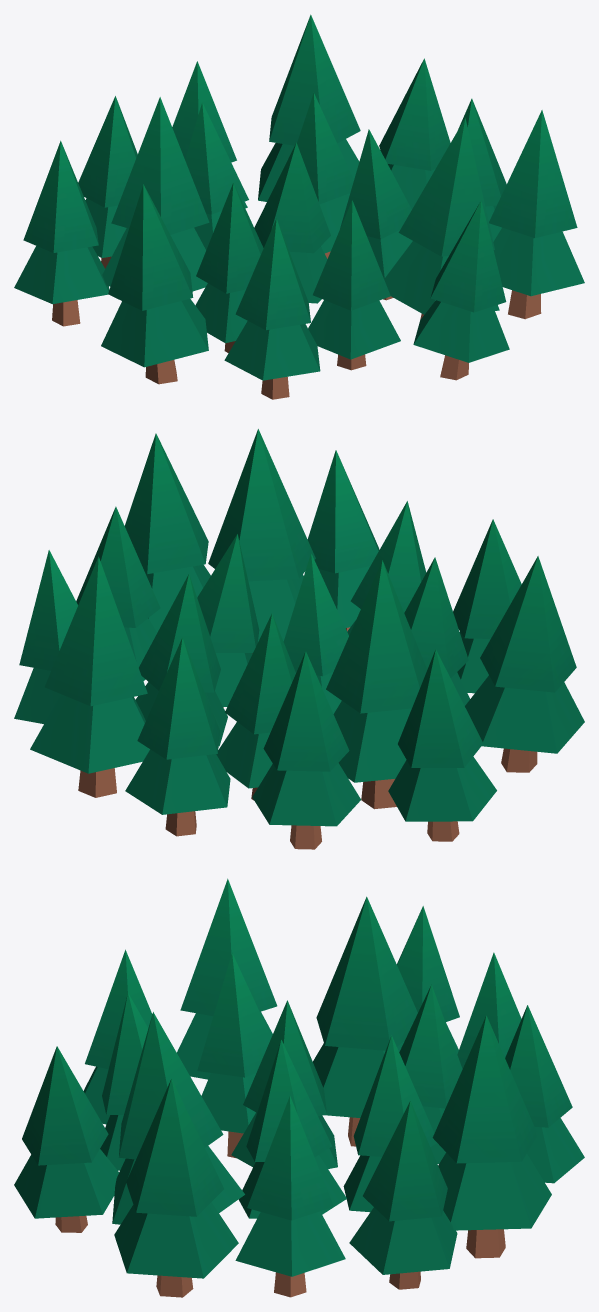
Rendered from trees-a-l.glb.
The picture shows the model from 3 angles, top to bottom: view 1: azimuth 30°, elevation 25°; view 2: azimuth 150°, elevation 25°; view 3: azimuth 270°, elevation 25°; orthographic projection. The views are drawn at different scales.
Visible parts, largest first — view 1: trees_A_large; view 2: trees_A_large; view 3: trees_A_large.
Boxes of the visible parts, x1=… form: trees_A_large: x1=14, y1=14, x2=584, y2=399; trees_A_large: x1=14, y1=429, x2=584, y2=849; trees_A_large: x1=14, y1=878, x2=584, y2=1297.
Size of the model in its own units: 1.95 by 0.9264 by 1.97.
Materials: 1 (1 with a texture image).
